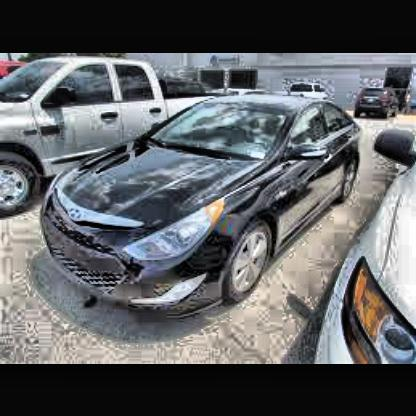Hyundai Sonata Hybrid Sedan 2012: (39, 88, 363, 324)
